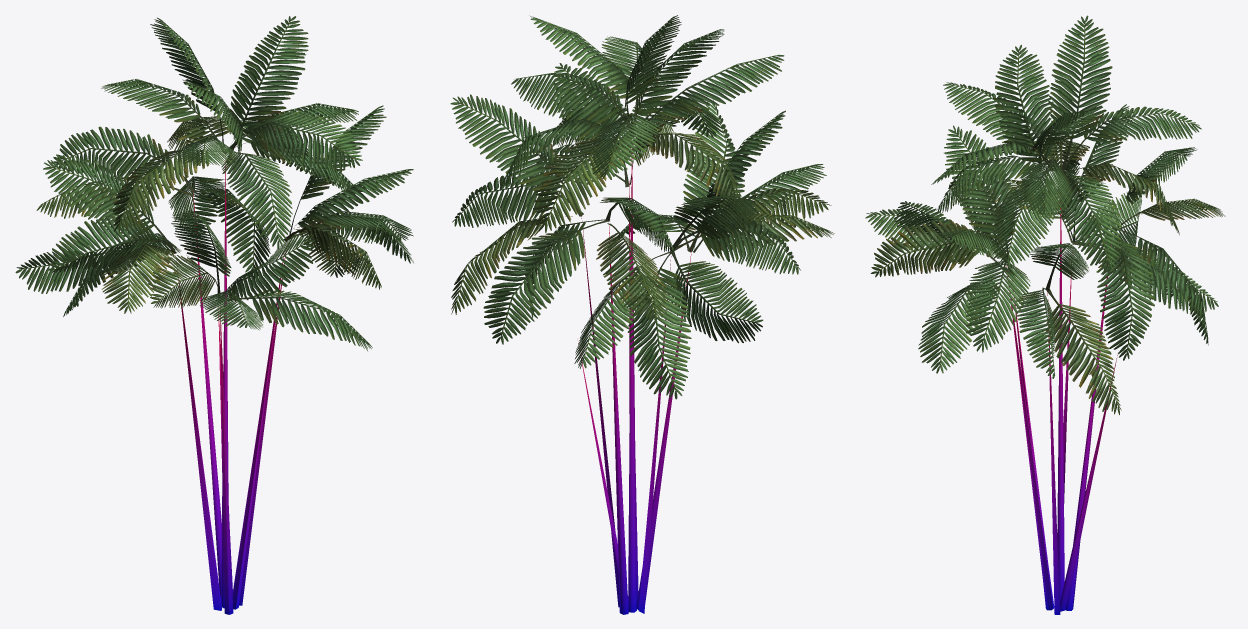
File: Palm_LOD.FBX
3 views of the same model, side by side, from view 1: azimuth 30°, elevation 25°; view 2: azimuth 150°, elevation 25°; view 3: azimuth 270°, elevation 25° (orthographic). The views are drawn at different scales.
Visible parts, largest first — view 1: Macarthur_Palm; view 2: Macarthur_Palm; view 3: Macarthur_Palm.
Boxes of the visible parts, x1,y1,x2,y2 form: Macarthur_Palm: (15, 16, 413, 614); Macarthur_Palm: (450, 15, 834, 614); Macarthur_Palm: (865, 15, 1224, 614).
Bounding box in the file's own units: 968 × 1589 × 934.
2 materials, 1 textured.
